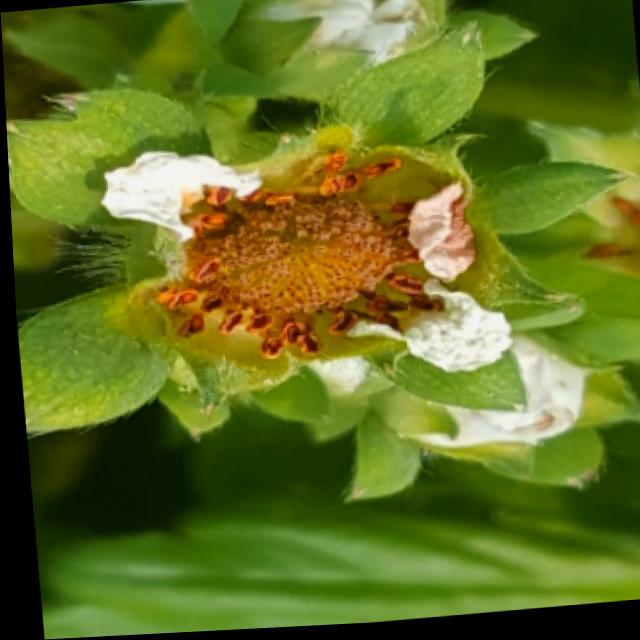Blossom Blight: (146, 144, 444, 365)
